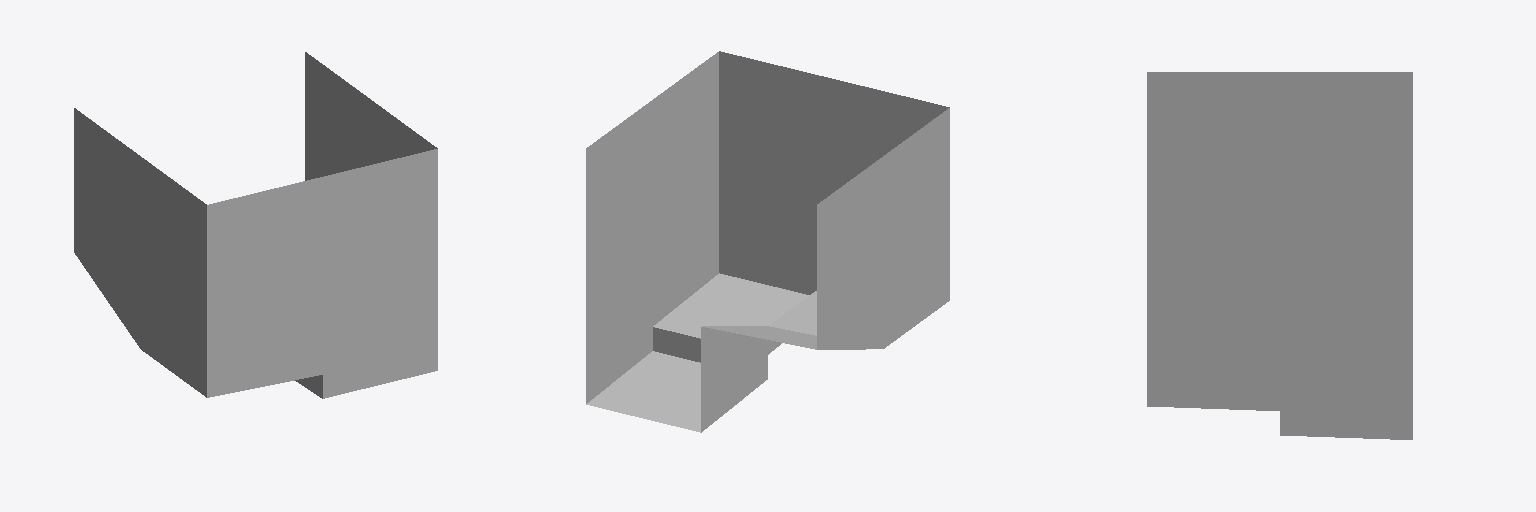
File: map1.obj
3 views of the same model, side by side, from view 1: azimuth 30°, elevation 25°; view 2: azimuth 150°, elevation 25°; view 3: azimuth 270°, elevation 25° (orthographic).
Parts seen in each view (by area): view 1: Plane; view 2: Plane; view 3: Plane.
Boxes of the visible parts, x1=… form: Plane: x1=74, y1=52, x2=437, y2=398; Plane: x1=586, y1=51, x2=949, y2=432; Plane: x1=1147, y1=72, x2=1412, y2=439.
Bounding box in the file's own units: 10 × 10.6 × 10.